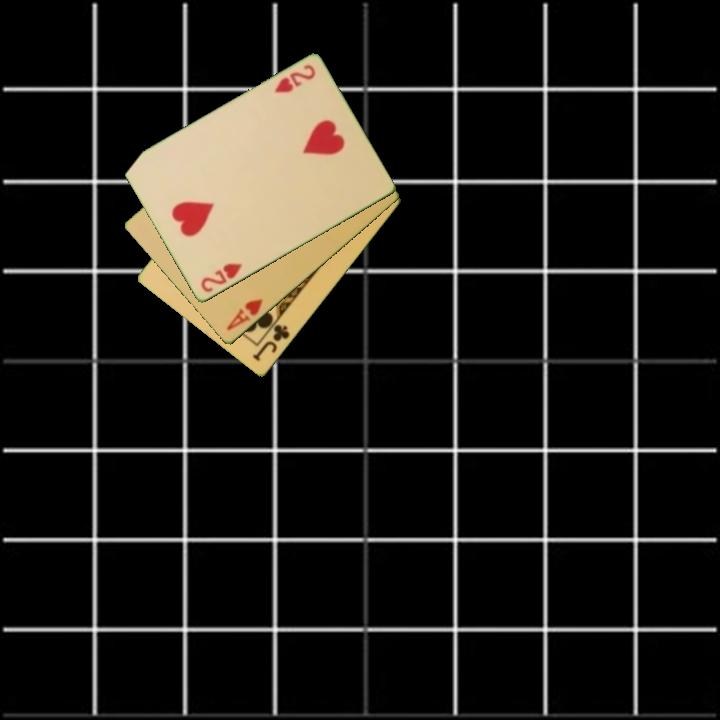2h: (197, 260, 245, 296), (271, 61, 318, 96)
Ah: (223, 295, 266, 334)
Jc: (249, 321, 293, 365)
